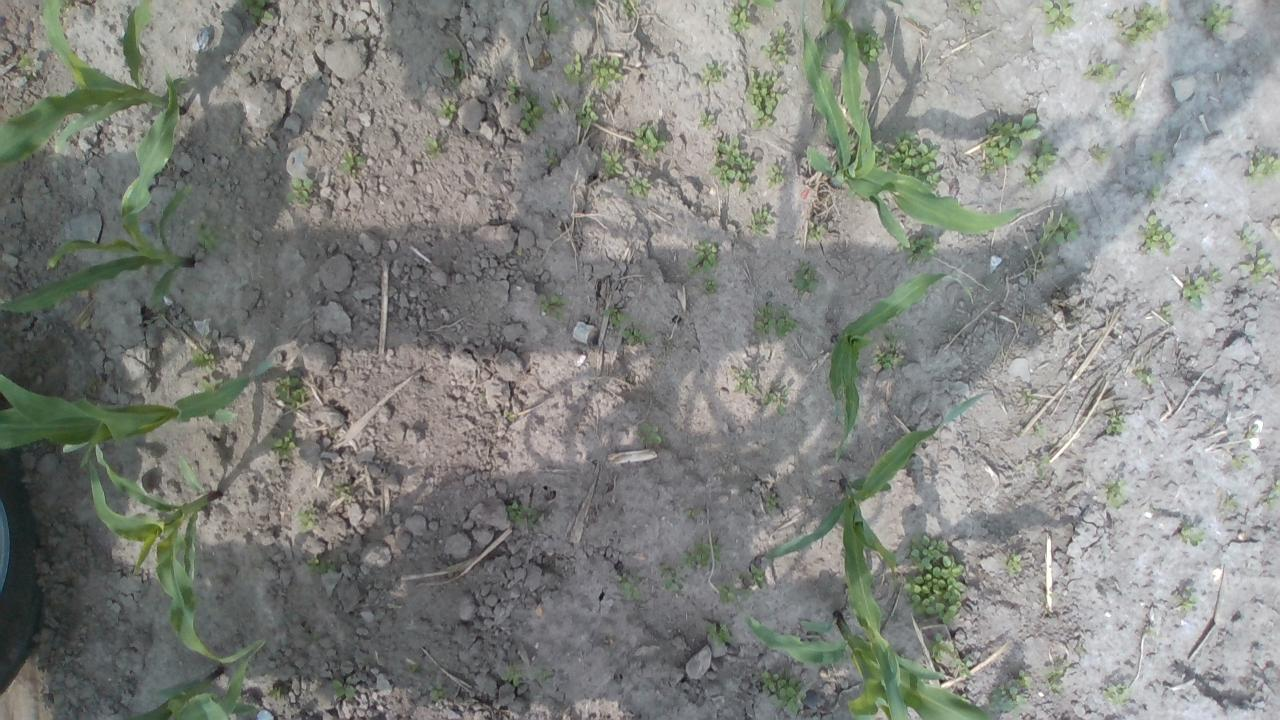Maize: (760, 390, 994, 720), (798, 0, 1025, 250), (0, 68, 194, 318), (82, 442, 258, 661), (0, 0, 188, 168), (829, 271, 974, 465), (741, 610, 990, 720), (3, 371, 254, 466), (118, 648, 256, 720), (811, 0, 906, 62)
Weeds: (905, 533, 966, 626), (872, 126, 940, 198), (979, 113, 1042, 176), (709, 136, 758, 194), (1112, 0, 1168, 47), (745, 71, 784, 130), (758, 668, 806, 714), (848, 16, 886, 66), (1025, 139, 1059, 190), (753, 303, 802, 338), (1038, 211, 1084, 248), (1182, 268, 1223, 308), (1137, 214, 1176, 256), (871, 333, 906, 370), (760, 22, 789, 66), (1038, 0, 1076, 33), (633, 124, 667, 160), (588, 55, 624, 89), (192, 221, 228, 254), (1243, 248, 1276, 284), (896, 235, 938, 263), (680, 542, 720, 571), (989, 687, 1024, 720), (686, 240, 719, 274), (272, 373, 304, 408), (1248, 151, 1280, 185), (504, 498, 538, 528), (1200, 3, 1232, 34), (233, 0, 273, 23), (286, 176, 318, 204), (1082, 60, 1121, 82), (926, 632, 956, 660), (748, 208, 776, 238), (338, 150, 367, 178), (792, 262, 819, 292), (520, 94, 543, 128), (1104, 476, 1127, 510), (702, 621, 736, 644), (1110, 89, 1136, 119), (763, 384, 788, 415), (270, 430, 296, 459), (577, 96, 600, 128), (599, 148, 625, 176), (562, 51, 586, 81), (622, 326, 654, 348), (729, 0, 750, 33), (1102, 683, 1132, 706), (190, 346, 217, 371), (638, 421, 665, 446), (601, 306, 630, 329), (1039, 668, 1064, 694), (617, 574, 640, 602), (626, 176, 654, 198), (538, 294, 560, 322), (307, 555, 336, 576), (330, 678, 357, 699), (701, 63, 726, 85), (432, 98, 457, 120), (1180, 524, 1206, 545), (658, 563, 678, 590), (294, 506, 318, 528), (733, 368, 753, 394), (765, 163, 785, 189), (1178, 586, 1197, 613), (422, 135, 442, 159), (540, 15, 562, 36), (950, 657, 972, 678), (1234, 229, 1254, 252), (750, 564, 766, 592), (1004, 553, 1023, 576), (718, 582, 738, 603), (442, 46, 465, 64), (502, 670, 527, 686), (542, 146, 561, 166), (505, 78, 520, 103), (16, 52, 32, 75), (1106, 415, 1126, 433), (1014, 668, 1032, 688), (199, 379, 224, 393), (959, 0, 982, 15), (1228, 453, 1248, 470), (1089, 148, 1113, 162), (1220, 494, 1240, 510), (1038, 455, 1051, 479), (429, 682, 446, 700), (1147, 184, 1164, 202), (806, 224, 822, 243), (268, 686, 286, 702), (1152, 150, 1166, 170), (622, 0, 638, 17), (699, 112, 716, 128), (1134, 367, 1150, 384), (548, 97, 564, 112), (752, 0, 778, 9), (536, 669, 554, 680), (457, 63, 472, 76), (1158, 306, 1170, 322), (1264, 494, 1278, 507), (702, 280, 716, 293), (574, 0, 594, 9), (1145, 626, 1156, 642), (448, 76, 462, 88), (502, 408, 513, 423), (766, 495, 776, 511), (1022, 390, 1034, 402)
